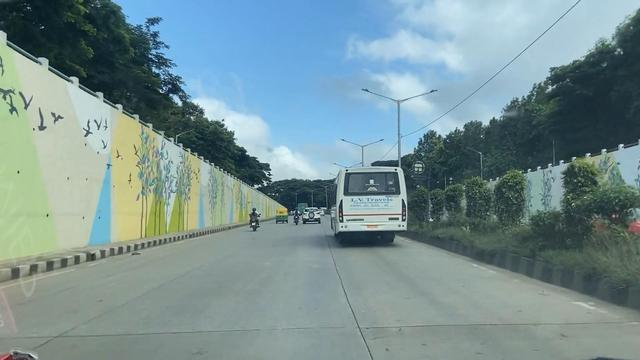HMV: (335, 170, 404, 240)
